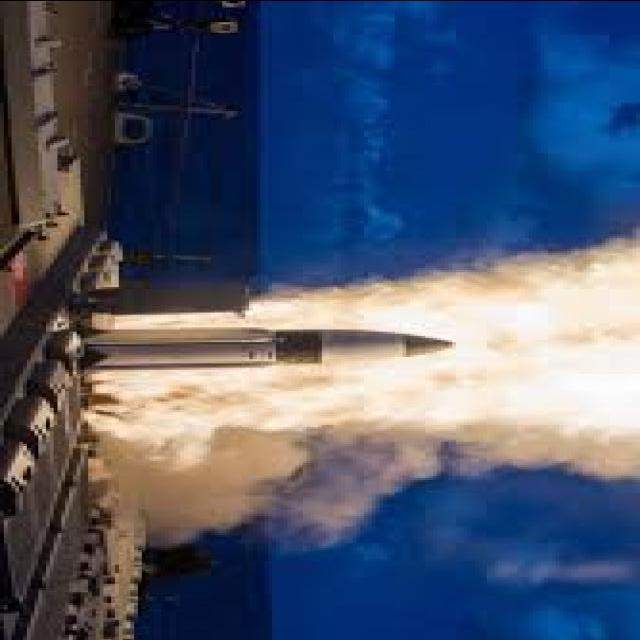missile: (75, 325, 472, 373)
